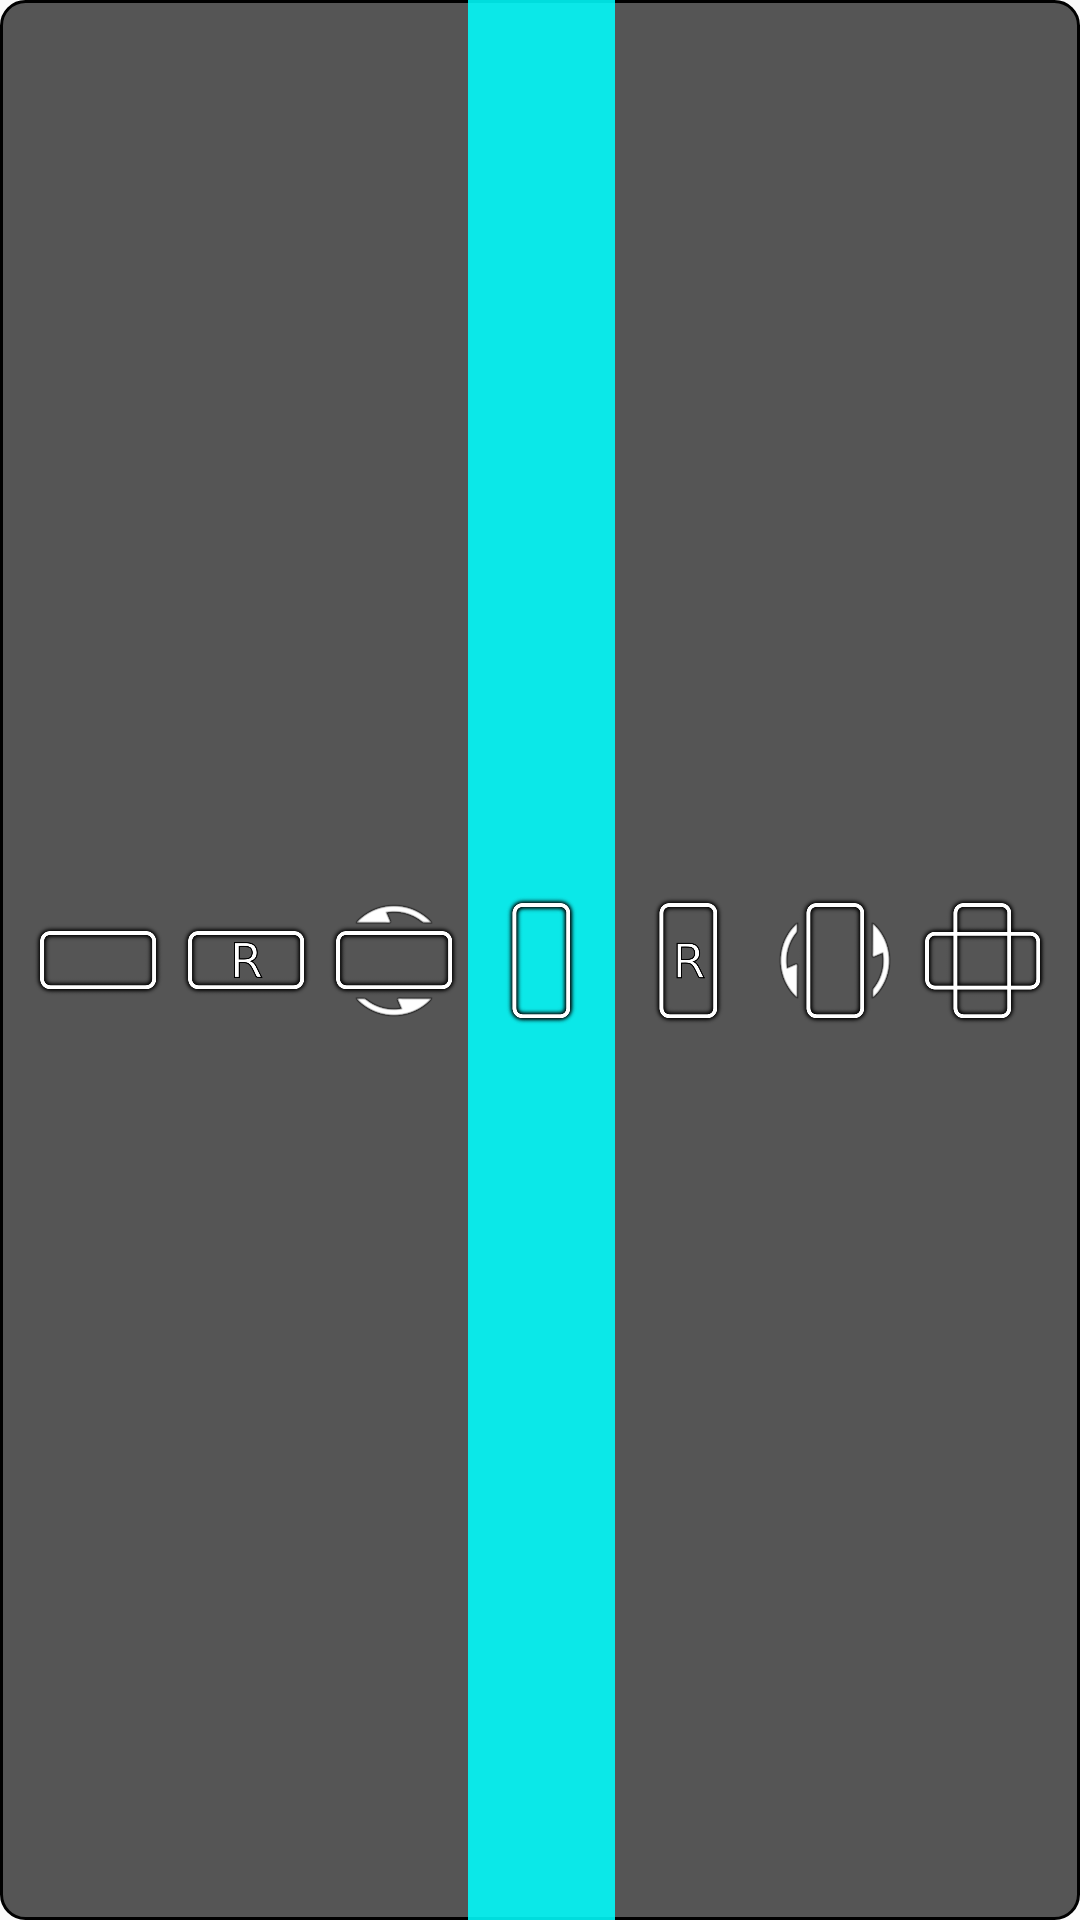

Screen size 1080 x 1920. Icon name, then its box in pixels as {"left": x1, "top": y1, "right": x2, "bottom": y2}:
Landscape: {"left": 37, "top": 928, "right": 159, "bottom": 992}
Reverse landscape: {"left": 185, "top": 928, "right": 307, "bottom": 992}
Reverse portrait: {"left": 657, "top": 900, "right": 720, "bottom": 1021}
Sensor landscape: {"left": 333, "top": 905, "right": 455, "bottom": 1016}
Sensor orientation: {"left": 922, "top": 900, "right": 1043, "bottom": 1021}
Sensor portrait: {"left": 780, "top": 900, "right": 890, "bottom": 1021}
